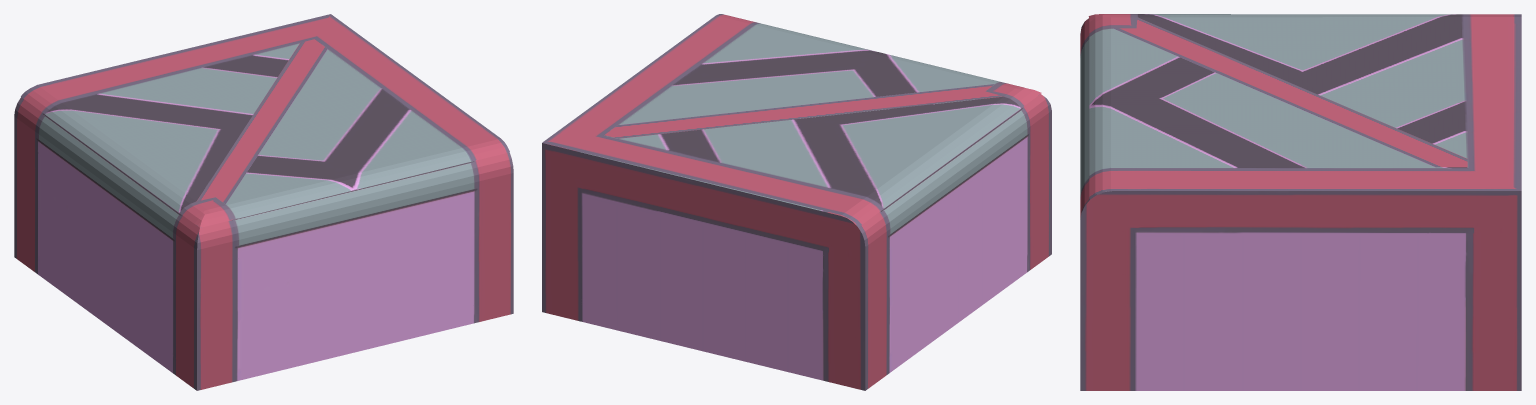
Rendered from róg_na_prawo.glb.
3 views of the same model, side by side, from view 1: azimuth 30°, elevation 25°; view 2: azimuth 150°, elevation 25°; view 3: azimuth 270°, elevation 25° (orthographic). The views are drawn at different scales.
Visible parts, largest first — view 1: Cube.002, Plane, Plane.008; view 2: Cube.002, Plane.008, Plane; view 3: Cube.002, Plane, Plane.008.
Part boxes in pixels (<box>): Cube.002: <box>14,39,513,390</box>; Plane: <box>200,14,509,227</box>; Plane.008: <box>21,14,330,227</box>; Cube.002: <box>542,84,1051,390</box>; Plane.008: <box>542,89,1041,226</box>; Plane: <box>542,14,1039,142</box>; Cube.002: <box>1080,17,1521,390</box>; Plane: <box>1088,14,1520,198</box>; Plane.008: <box>1099,14,1521,190</box>.
Bounding box in the file's own units: 2 × 1.01 × 2.
3 materials, 3 textured.
